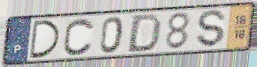0: (98, 16, 125, 55)
8: (163, 11, 192, 50)
C: (62, 17, 96, 57)
D: (125, 12, 164, 54), (29, 19, 63, 60)
S: (196, 9, 227, 49)
